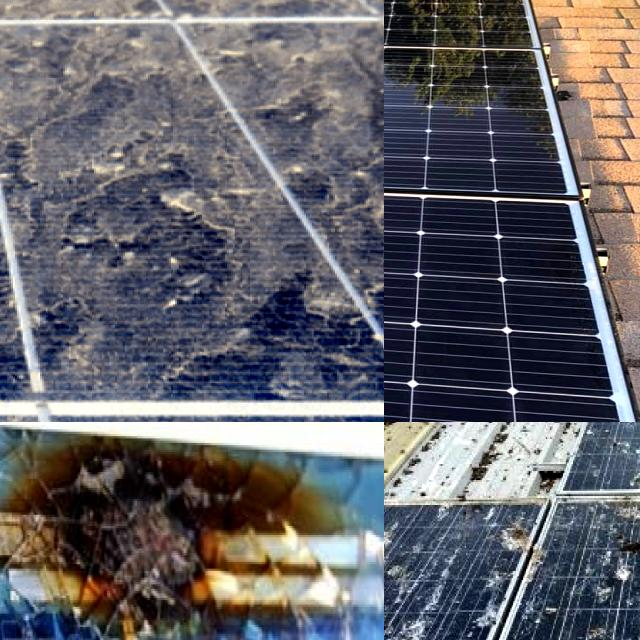bird: (578, 523, 640, 591), (502, 508, 552, 576), (384, 597, 423, 640)
crack: (384, 158, 640, 422), (384, 19, 640, 218), (384, 0, 640, 66)
dust: (0, 30, 218, 397), (273, 27, 384, 397), (0, 24, 51, 394), (181, 0, 384, 25), (0, 0, 148, 28)
shadow: (0, 427, 384, 640)
